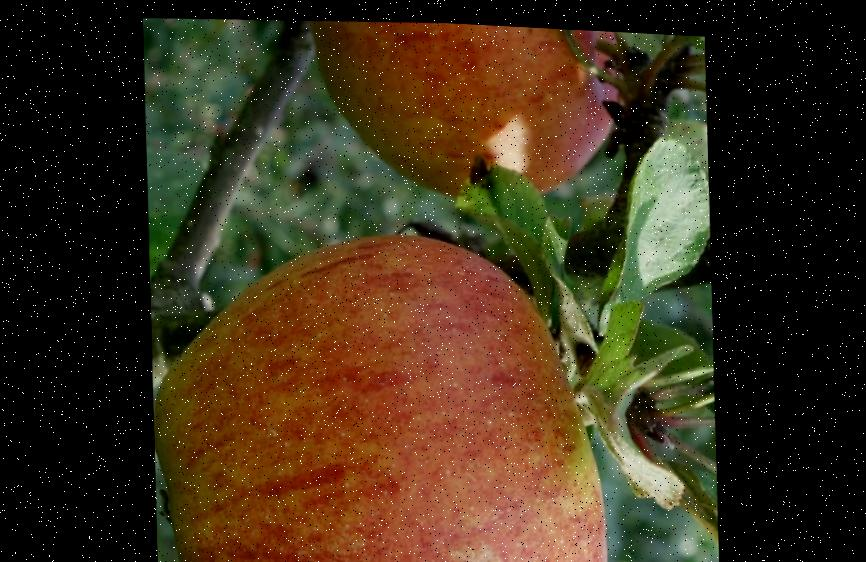HEALTHY: (149, 222, 657, 562), (299, 16, 647, 244)
